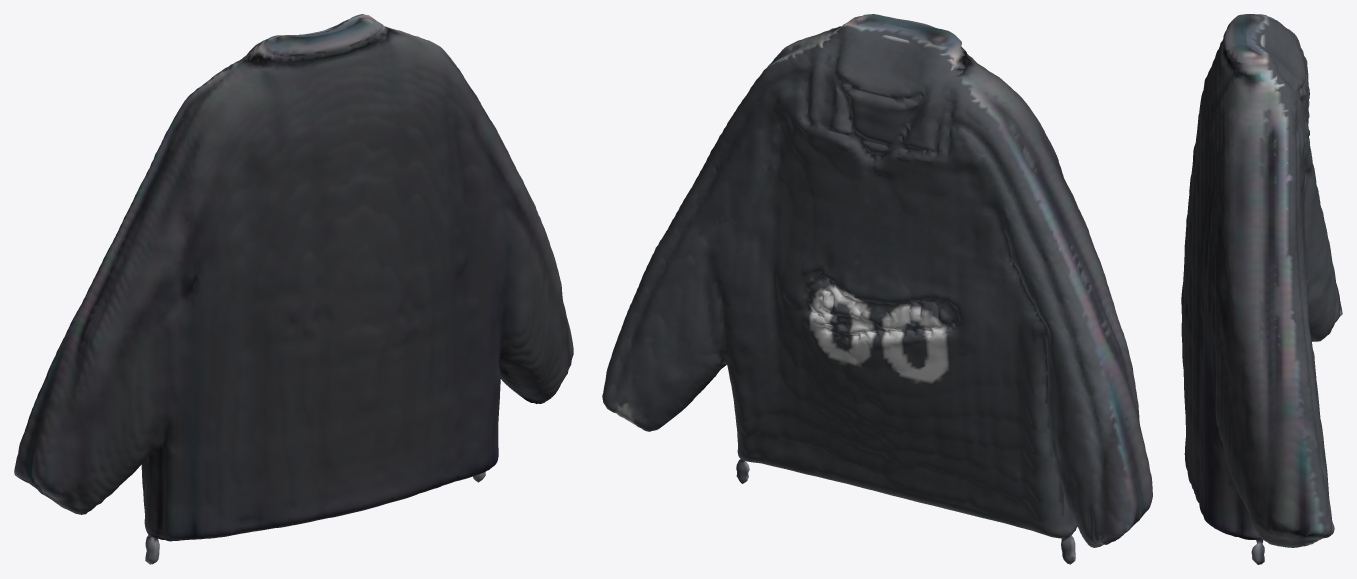
Rendered from dreamspire-baseball-contrast-striped-lapel-collar-sweatshirt.glb.
The picture shows the model from 3 angles, left to right: view 1: azimuth 30°, elevation 25°; view 2: azimuth 150°, elevation 25°; view 3: azimuth 270°, elevation 25°; orthographic projection. The views are drawn at different scales.
Parts seen in each view (by area): view 1: tmpdxtwm4fb.glb; view 2: tmpdxtwm4fb.glb; view 3: tmpdxtwm4fb.glb.
Boxes of the visible parts, x1,y1,x2,y2 form: tmpdxtwm4fb.glb: [14, 14, 573, 564]; tmpdxtwm4fb.glb: [602, 14, 1152, 564]; tmpdxtwm4fb.glb: [1181, 14, 1342, 564].
Size of the model in its own units: 1 by 0.8898 by 0.2812.
